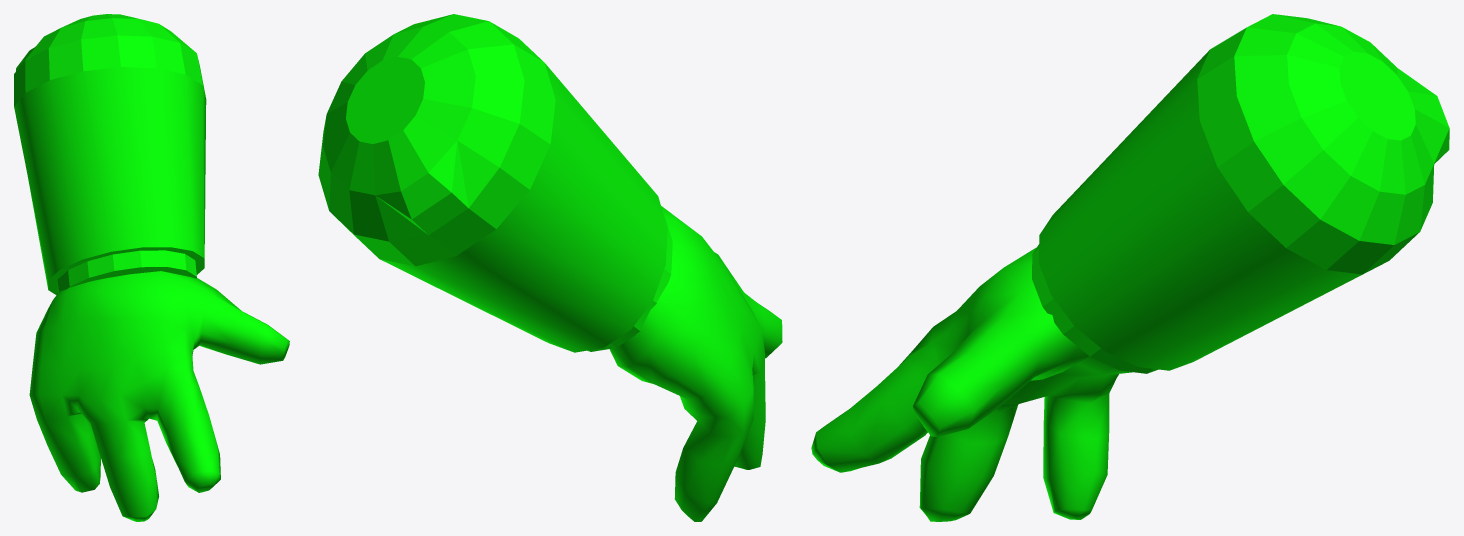
Rendered from lefthand.obj.
The picture shows the model from 3 angles, left to right: view 1: azimuth 30°, elevation 25°; view 2: azimuth 150°, elevation 25°; view 3: azimuth 270°, elevation 25°; orthographic projection. The views are drawn at different scales.
Visible parts, largest first — view 1: al:handR, al:lowarmR, al:lowarmR1, al:sleaveR1, al:sleaveR; view 2: al:lowarmR1, al:lowarmR, al:handR, al:sleaveR1; view 3: al:lowarmR, al:lowarmR1, al:handR, al:sleaveR1.
Boxes of the visible parts, left/top/right/bottom form: al:handR: left=29, top=271, right=289, bottom=521; al:lowarmR: left=14, top=67, right=206, bottom=289; al:lowarmR1: left=14, top=14, right=205, bottom=294; al:sleaveR1: left=57, top=250, right=196, bottom=292; al:sleaveR: left=67, top=267, right=196, bottom=288; al:lowarmR1: left=318, top=14, right=555, bottom=266; al:lowarmR: left=346, top=57, right=667, bottom=352; al:handR: left=609, top=206, right=782, bottom=521; al:sleaveR1: left=587, top=213, right=672, bottom=351; al:lowarmR: left=1039, top=50, right=1415, bottom=370; al:lowarmR1: left=1197, top=14, right=1449, bottom=274; al:handR: left=811, top=247, right=1132, bottom=521; al:sleaveR1: left=1032, top=244, right=1158, bottom=373.
Size of the model in its own units: 1.13 by 1.79 by 1.85.
